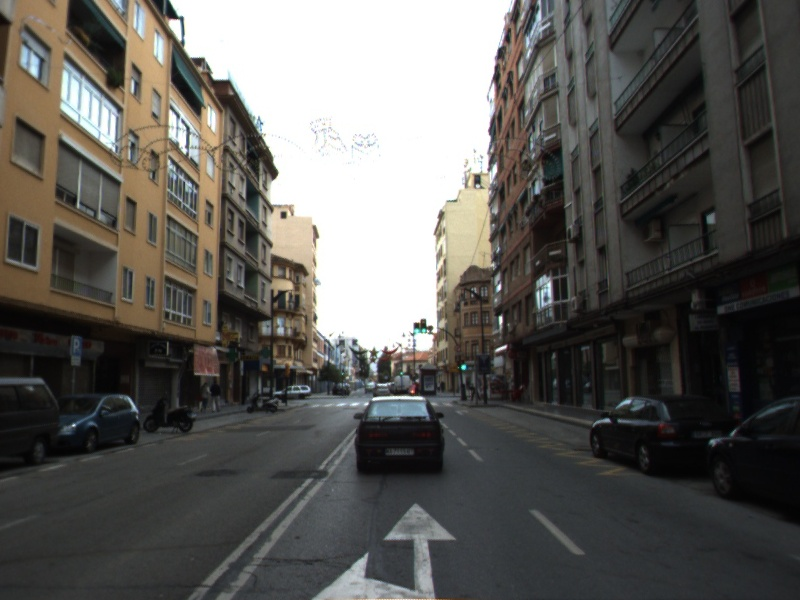RIGHT: (454, 407, 470, 417)
STRAIGHT_LEFT: (308, 501, 458, 600)
